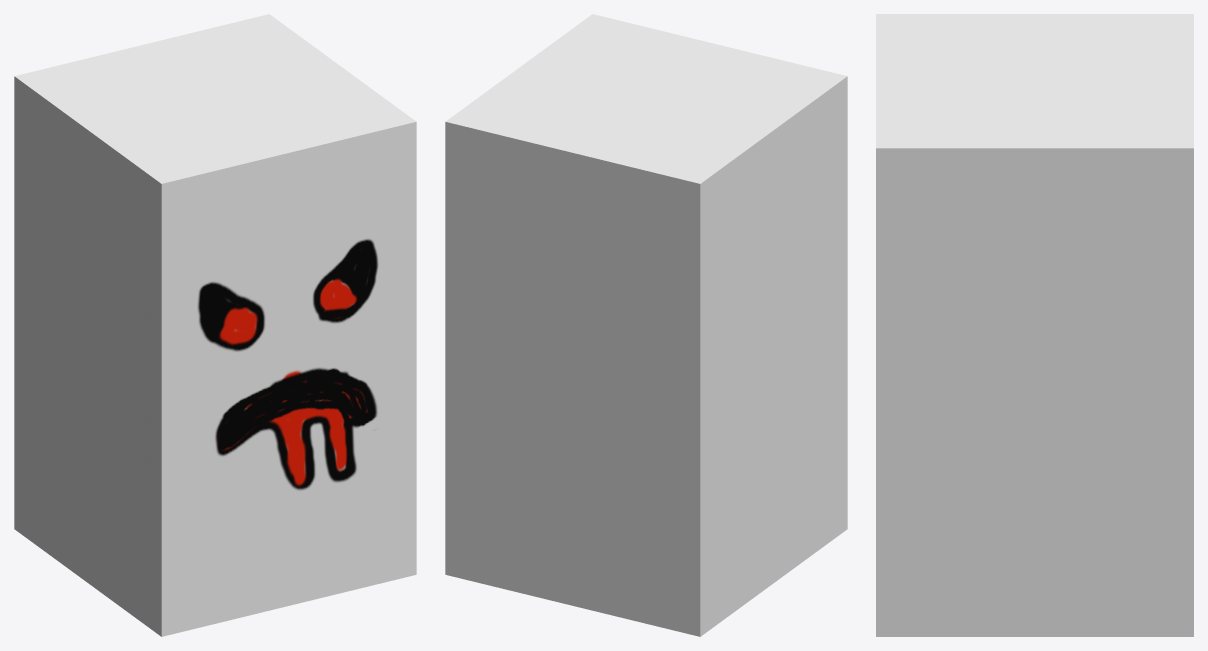
File: fantasma.dae
3 renders of one model, left to right at view 1: azimuth 30°, elevation 25°; view 2: azimuth 150°, elevation 25°; view 3: azimuth 270°, elevation 25°, orthographic. The views are drawn at different scales.
Parts seen in each view (by area): view 1: Cube; view 2: Cube; view 3: Cube.
Part boxes in pixels (box(x1,y1,x2,y2)): Cube: box(14, 14, 416, 636); Cube: box(445, 14, 847, 636); Cube: box(876, 14, 1193, 636).
Size of the model in its own units: 2 by 2 by 3.4.
Materials: 1 (1 with a texture image).
